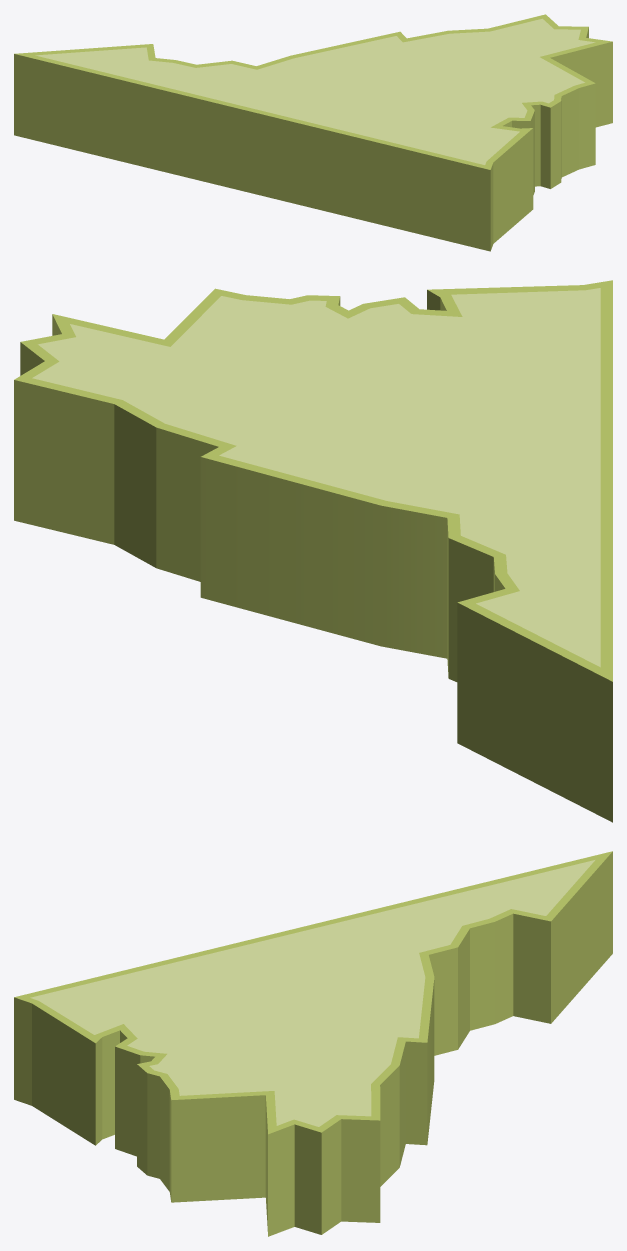
File: Islands4.005.fbx
The picture shows the model from 3 angles, top to bottom: view 1: azimuth 30°, elevation 25°; view 2: azimuth 150°, elevation 25°; view 3: azimuth 270°, elevation 25°; orthographic projection. The views are drawn at different scales.
Visible parts, largest first — view 1: Island4.005; view 2: Island4.005; view 3: Island4.005.
Part boxes in pixels (x1,y1,x2,y2): Island4.005: (14, 14, 612, 251); Island4.005: (14, 280, 612, 822); Island4.005: (14, 851, 612, 1236).
Bounding box in the file's own units: 148 × 25 × 132.
